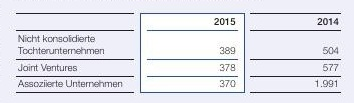table: (0, 0, 354, 103)
